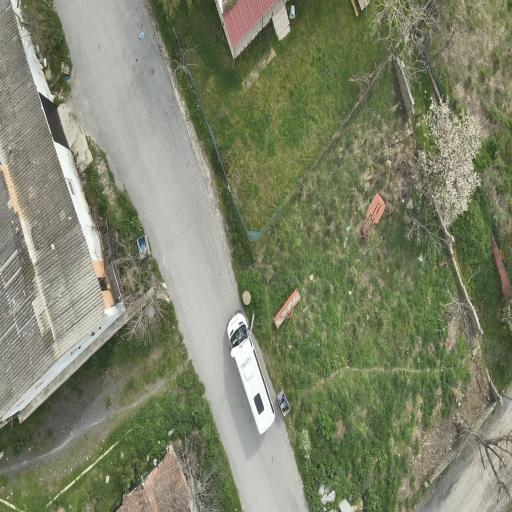car: (228, 311, 274, 433)
